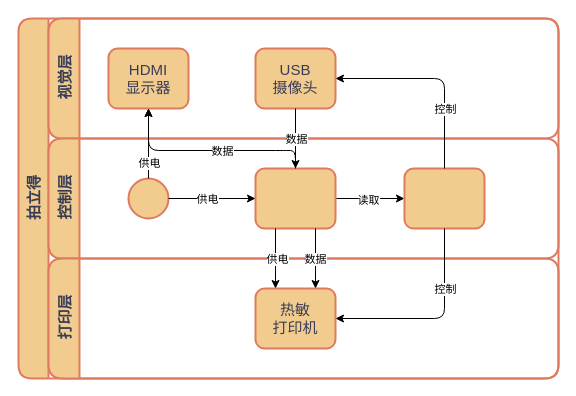
The diagram is 576 pixels wide and 396 high, and some of its shapes have lost their labels. The shapes that lost their labels are listed below. From the top down, each one's centre as x and y in pixels, then its label:
(x=148, y=198): 电源
(x=295, y=198): 树莓派
(x=444, y=198): 按键
